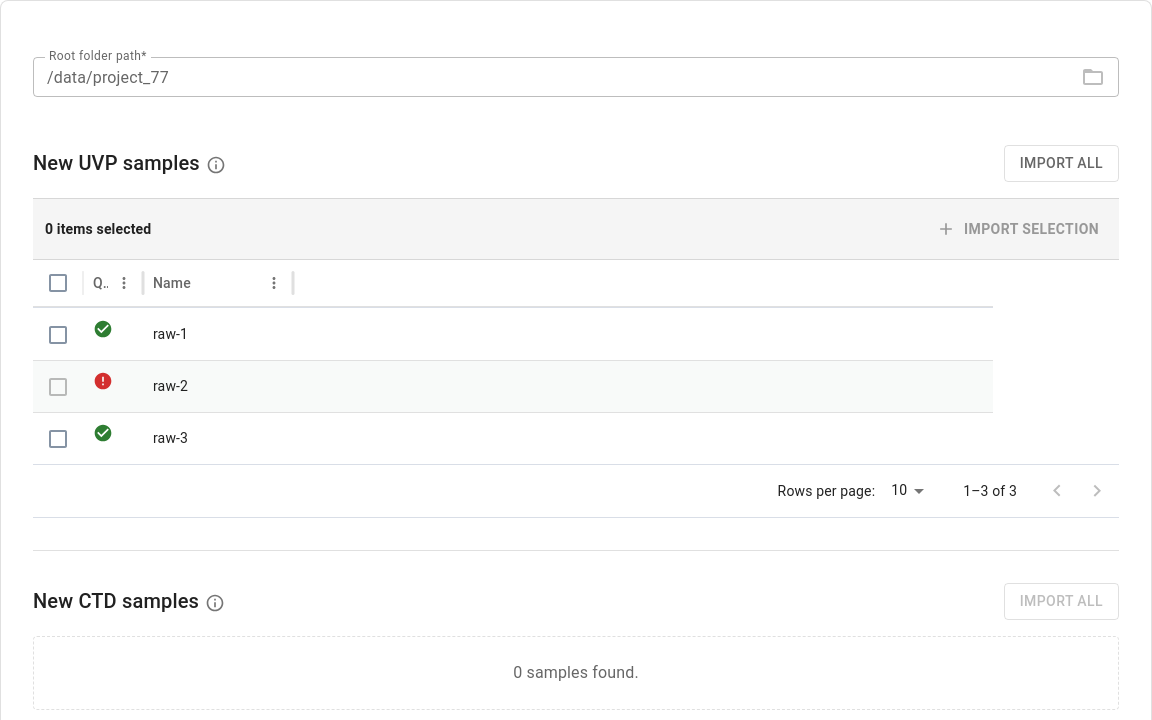
I. IMPORT TAB (ProjectImportTab) › Functional Tests › TC-N3a - QC modal renders one card per previewed sample with remove + footer actions
The image size is (1152, 720).
Click the button "IMPORT ALL" in the row of "New UVP samples" at (1061, 163), box [1004, 145, 1119, 182]
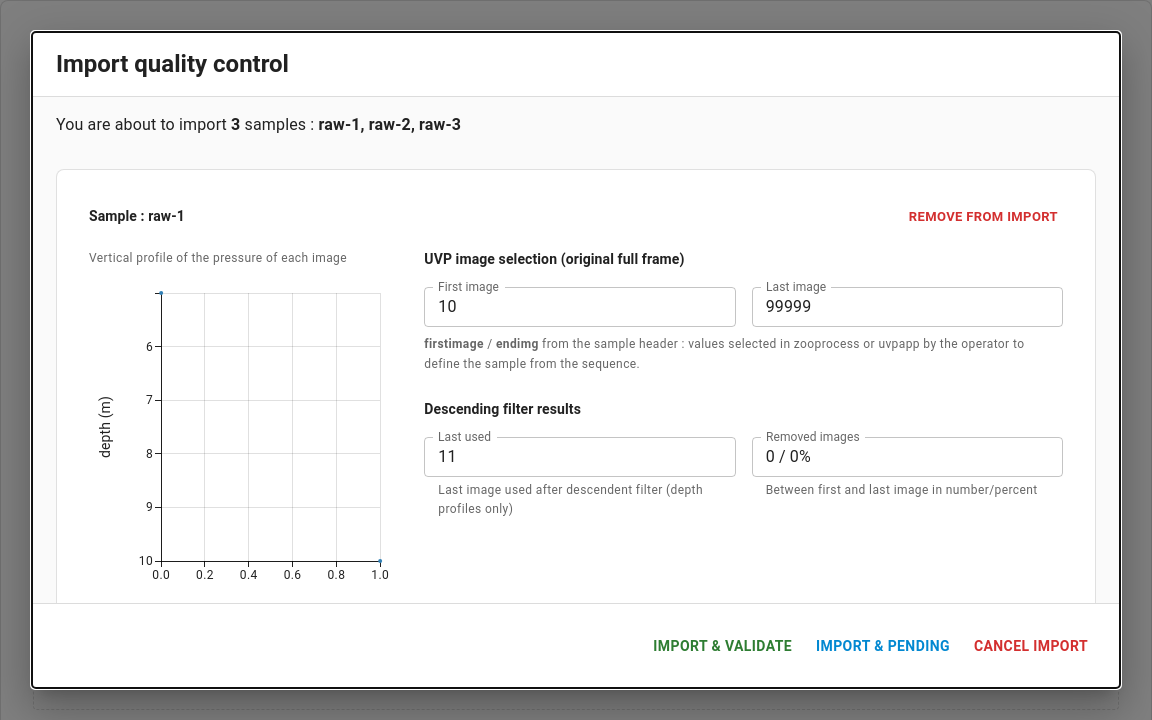
Check: the text "You are about to import 3 samples : raw-1, raw-2, raw-3" is shown, box [56, 115, 461, 134]
Check: the number of buttons "REMOVE FROM IMPORT" is 3
Check: the button "IMPORT & VALIDATE" is shown, box [645, 628, 800, 664]
